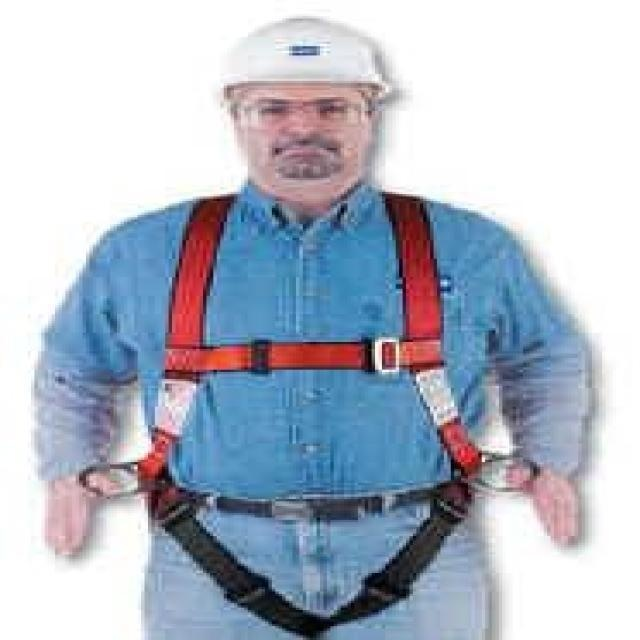Arnes_seguridad: (137, 188, 488, 639)
